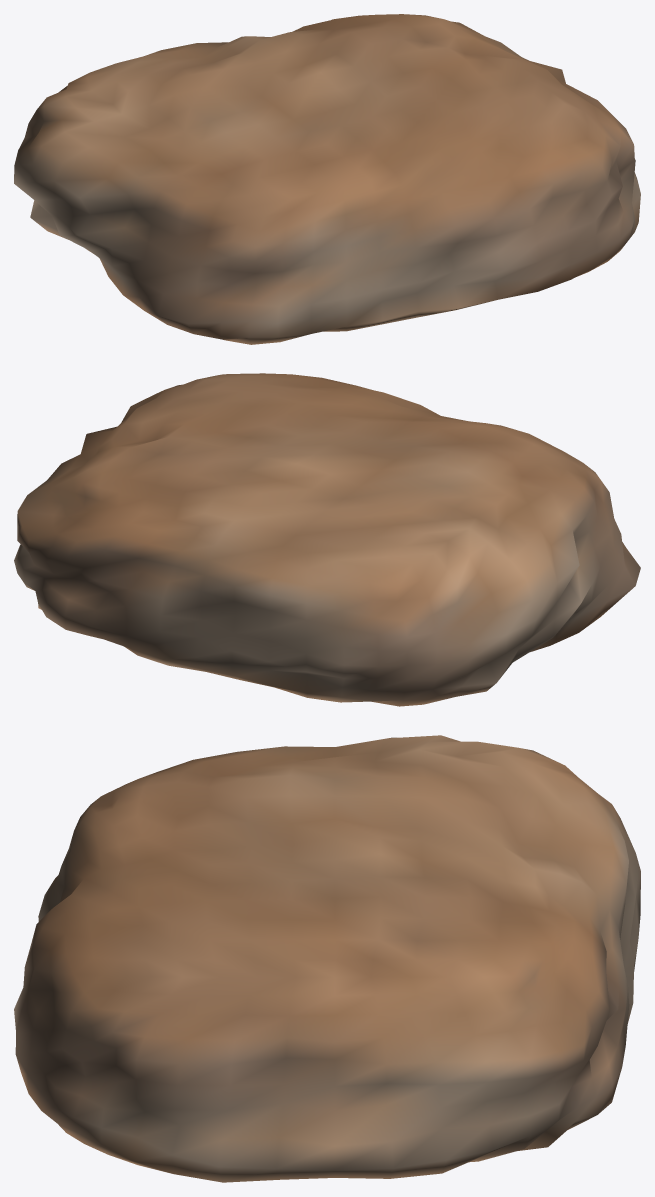
Rendered from scooby-doo.glb.
3 views of the same model, one above another, from view 1: azimuth 30°, elevation 25°; view 2: azimuth 150°, elevation 25°; view 3: azimuth 270°, elevation 25° (orthographic). The views are drawn at different scales.
Visible parts, largest first — view 1: rock-scooby-doo; view 2: rock-scooby-doo; view 3: rock-scooby-doo.
Part boxes in pixels (x1,y1,x2,y2): rock-scooby-doo: (14, 14, 640, 344); rock-scooby-doo: (14, 373, 640, 706); rock-scooby-doo: (14, 735, 640, 1182).
Bounding box in the file's own units: 0.55 × 0.14 × 0.45.
